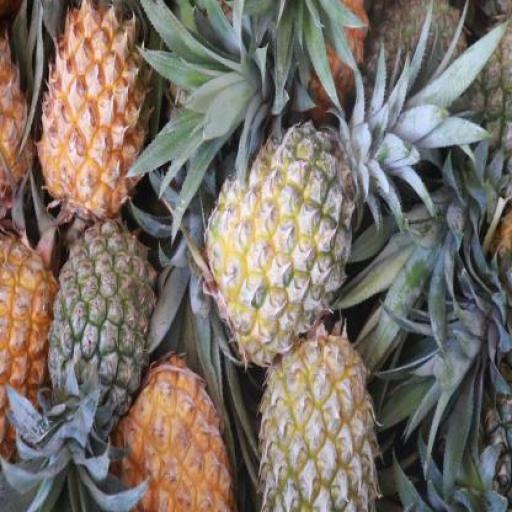------------------------------: (204, 122, 356, 370), (257, 327, 378, 511)
Pineapple - v8 v1: (38, 1, 150, 228), (114, 356, 226, 510)
